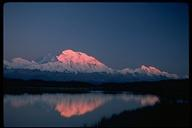mountain: (4, 42, 188, 89)
sky: (6, 6, 186, 47)
snow: (60, 55, 88, 69)
water: (3, 88, 165, 124)
